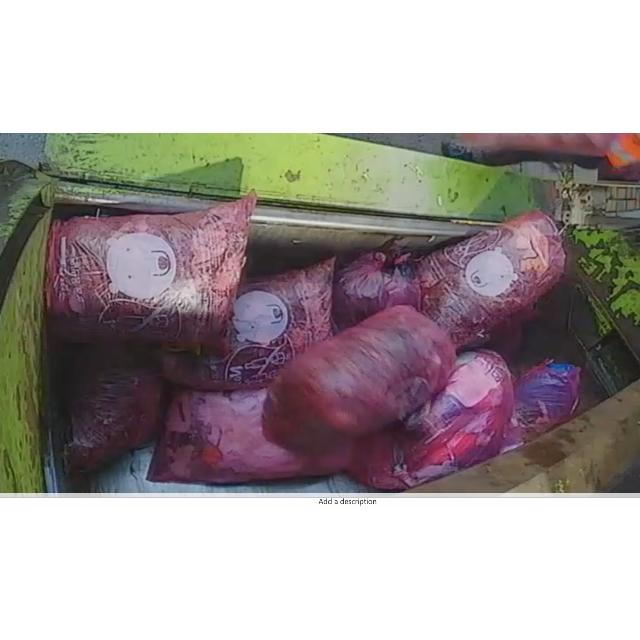other_trashbag: (46, 192, 256, 354), (264, 304, 456, 452), (349, 350, 514, 490), (164, 257, 334, 390), (416, 211, 565, 347), (149, 387, 348, 483), (64, 343, 165, 473), (332, 238, 420, 328), (500, 360, 581, 452)
